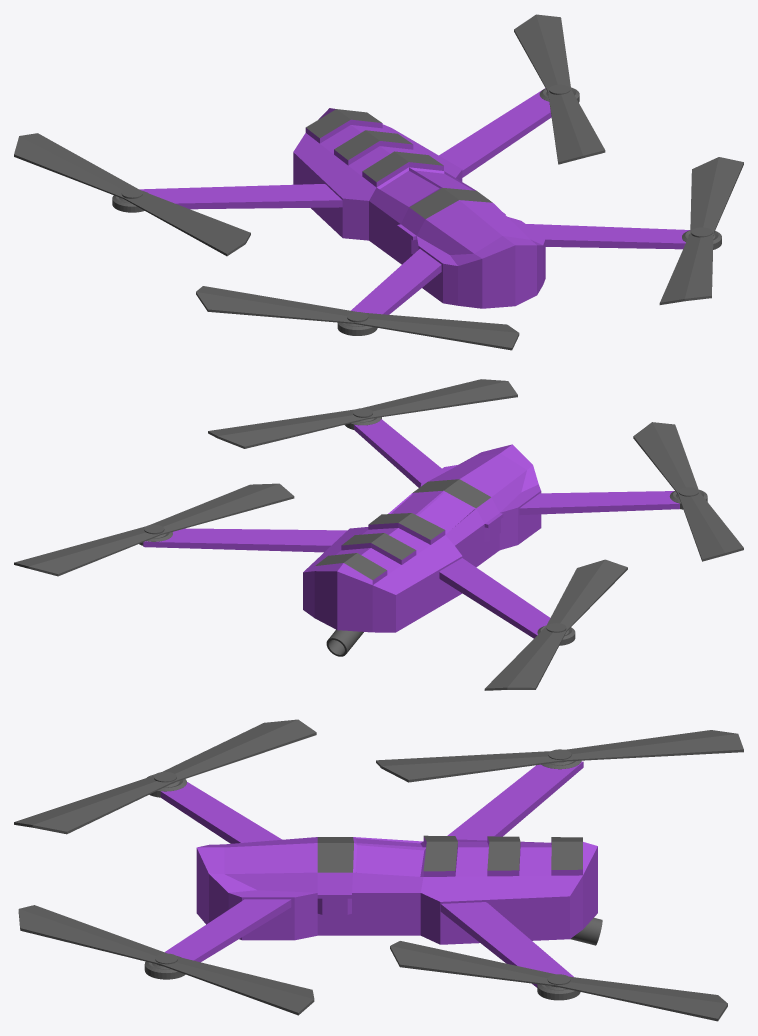
Rendered from drone purple.fbx.
3 renders of one model, top to bottom at view 1: azimuth 30°, elevation 25°; view 2: azimuth 150°, elevation 25°; view 3: azimuth 270°, elevation 25°, orthographic. The views are drawn at different scales.
Parts seen in each view (by area): view 1: base, blade 2, blade 4, blade 3, blade 1; view 2: base, blade 1, blade 3, blade 4, blade 2; view 3: base, blade 4, blade 3, blade 2, blade 1.
Part boxes in pixels (x1,y1,x2,y2): base: (112, 84, 721, 335); blade 2: (196, 286, 519, 350); blade 4: (14, 133, 250, 256); blade 3: (514, 14, 605, 164); blade 1: (659, 157, 743, 304); base: (139, 408, 707, 656); blade 1: (208, 379, 517, 448); blade 3: (14, 483, 294, 576); blade 4: (484, 559, 627, 690); blade 2: (633, 422, 743, 561); base: (144, 749, 602, 1000); blade 4: (376, 730, 743, 782); blade 3: (390, 941, 727, 1021); blade 2: (14, 719, 316, 834); blade 1: (18, 905, 314, 1015).
Bounding box in the file's own units: 1312 × 211 × 1363.
